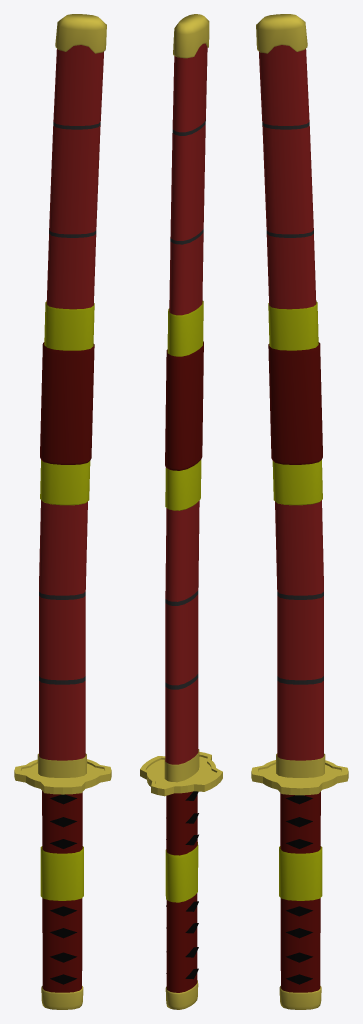
The picture shows the model from 3 angles, left to right: view 1: azimuth 90°, elevation 25°; view 2: azimuth 150°, elevation 25°; view 3: azimuth 270°, elevation 25°; orthographic projection.
Visible parts, largest first — view 1: Cube.198; view 2: Cube.198; view 3: Cube.198.
Part boxes in pixels (x1,y1,x2,y2): Cube.198: (14, 14, 111, 1009); Cube.198: (140, 14, 222, 1009); Cube.198: (251, 14, 348, 1009).
Size of the model in its own units: 30.12 by 402 by 35.85.
